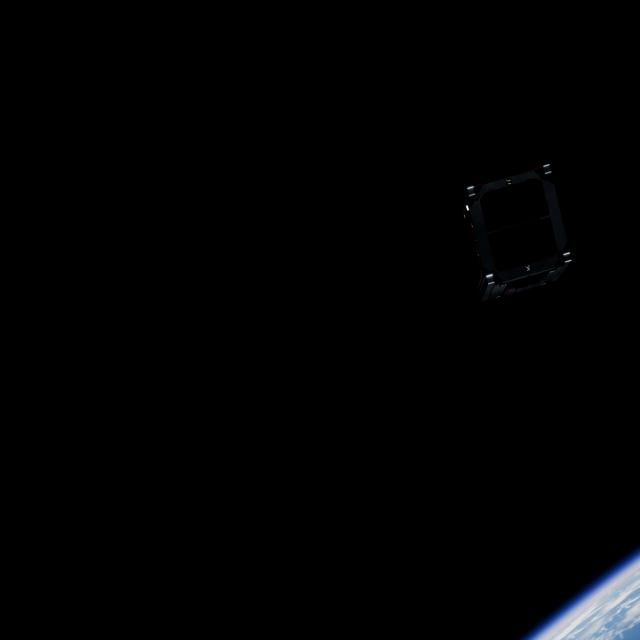medium_debris: (454, 160, 578, 296)
